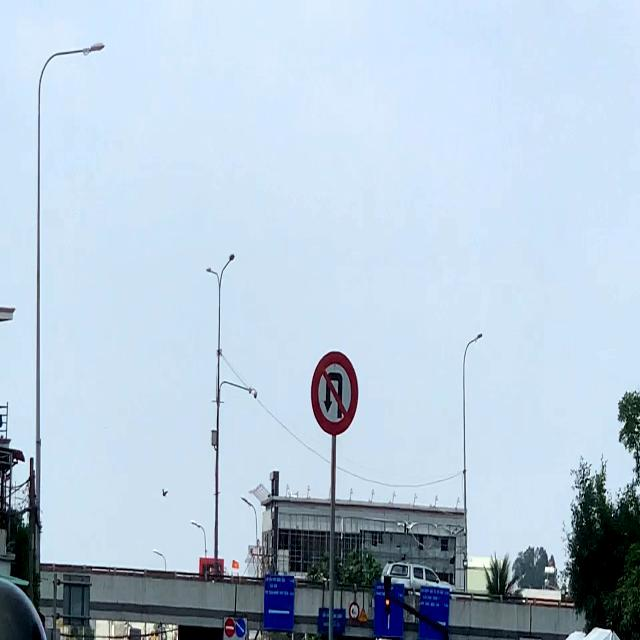Cam di nguoc chieu: (224, 618, 234, 638)
Cam quay dau xe: (306, 344, 366, 442)
Han che chieu cao: (348, 600, 360, 620)
Vong chuong ngai vat sang phai: (236, 618, 246, 638)
